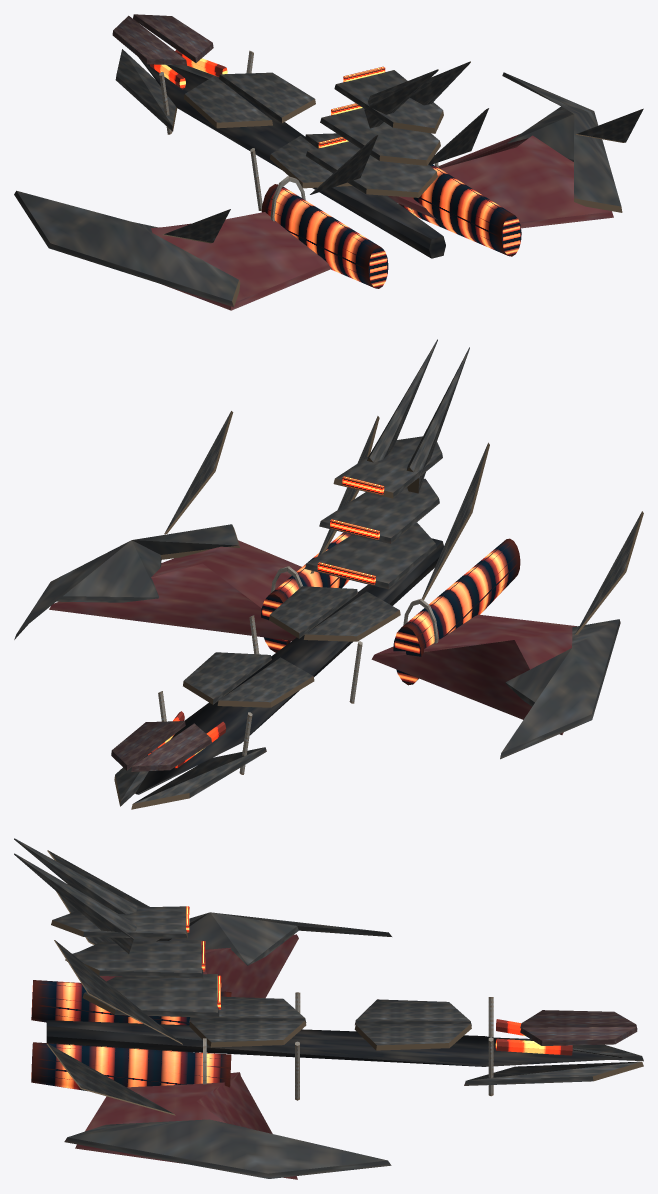
Rendered from dynasty_cruiser_recreated_lod2.glb.
3 renders of one model, top to bottom at view 1: azimuth 30°, elevation 25°; view 2: azimuth 150°, elevation 25°; view 3: azimuth 270°, elevation 25°, orthographic. The views are drawn at different scales.
Visible parts, largest first — view 1: dynasty_cruiser_far_source; view 2: dynasty_cruiser_far_source; view 3: dynasty_cruiser_far_source.
Part boxes in pixels (x1,y1,x2,y2): dynasty_cruiser_far_source: (14,14,643,310); dynasty_cruiser_far_source: (14,339,643,809); dynasty_cruiser_far_source: (14,838,643,1179).
Bounding box in the file's own units: 2.73 × 1.17 × 2.85.
Materials: 1 (1 with a texture image).
